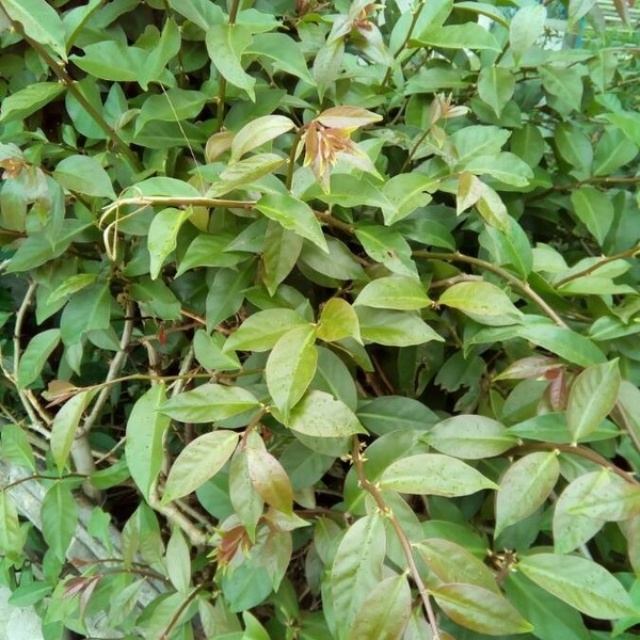obstacle: (22, 43, 567, 590)
